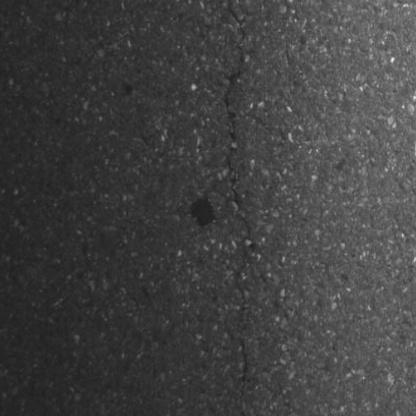Cracks: (221, 67, 256, 243), (236, 338, 259, 416), (232, 253, 252, 324), (219, 0, 249, 41)
